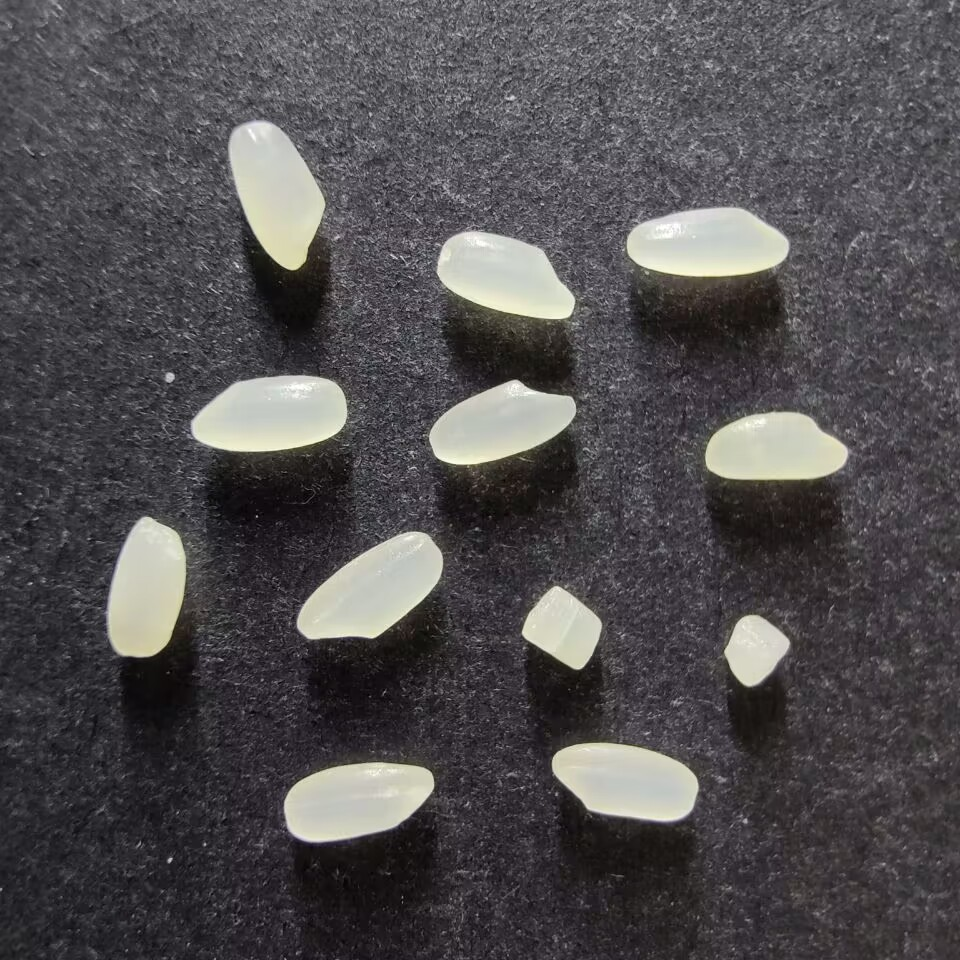broken: (519, 584, 603, 670), (722, 613, 791, 688)
rice: (294, 529, 444, 642), (226, 120, 326, 270), (427, 377, 577, 466), (435, 230, 578, 319), (281, 760, 434, 843), (189, 373, 347, 452), (550, 742, 699, 822), (105, 513, 186, 658), (625, 206, 789, 277), (703, 410, 849, 481)
